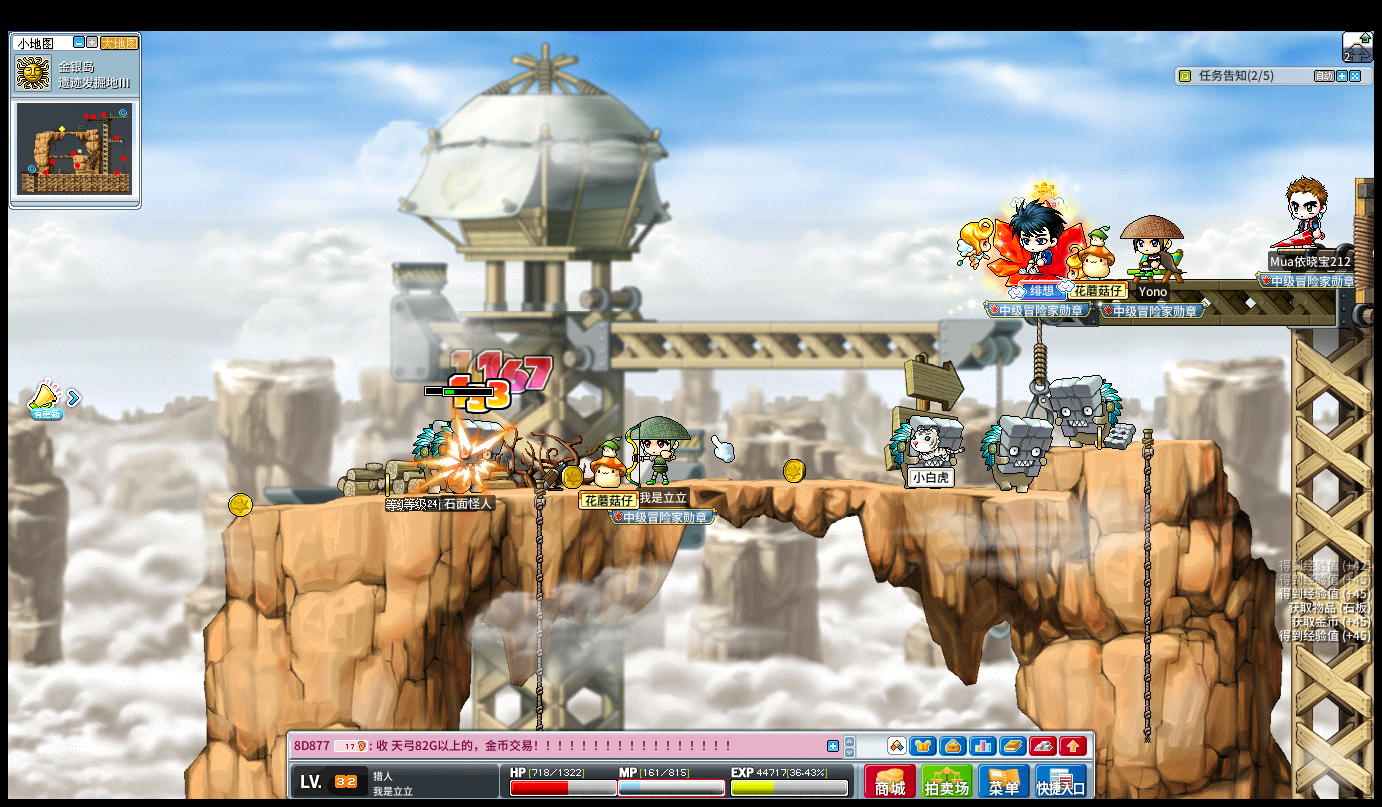floor: (236, 476, 1117, 497)
monster: (888, 415, 966, 491), (979, 415, 1051, 494), (1052, 372, 1122, 450)
rope: (1139, 429, 1154, 747), (1140, 431, 1153, 661), (531, 478, 544, 683), (1140, 632, 1153, 740), (1034, 316, 1046, 392)
